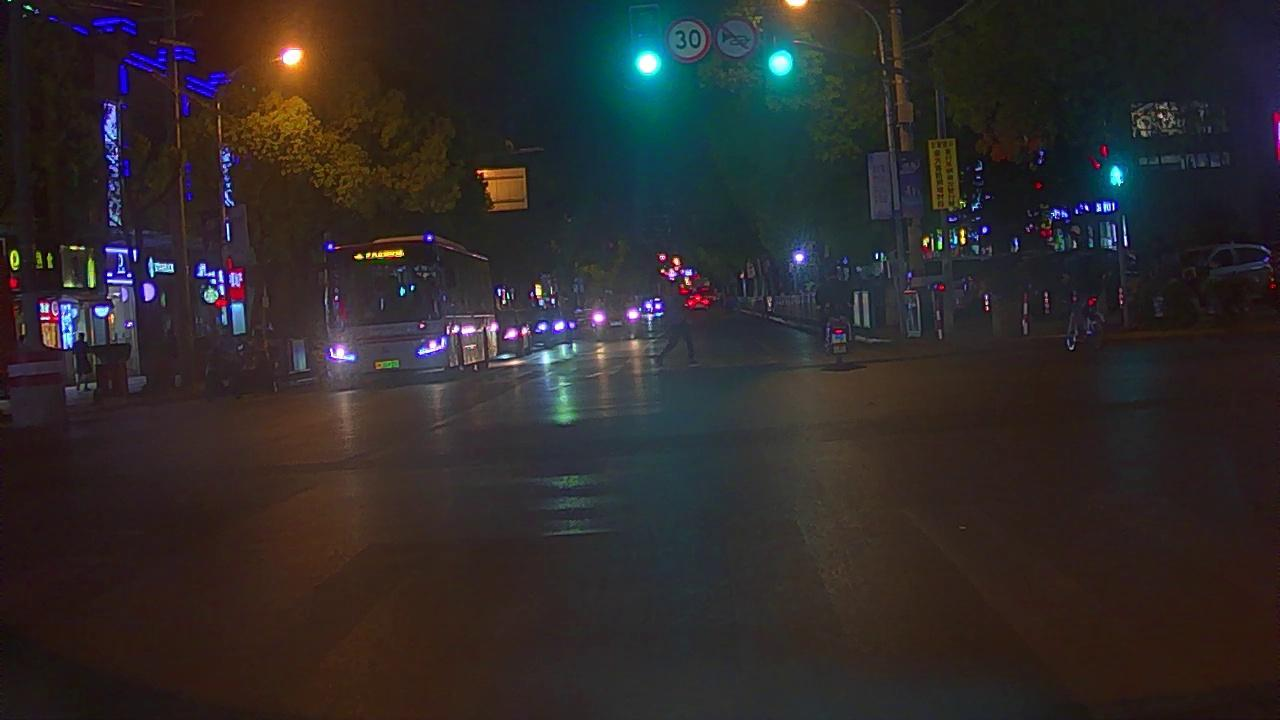traffic_light: (628, 41, 667, 84), (766, 42, 799, 85), (1105, 157, 1130, 195)
